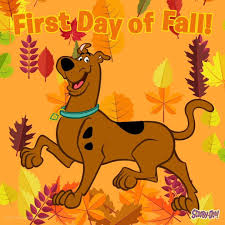scooby: (19, 43, 214, 209)
